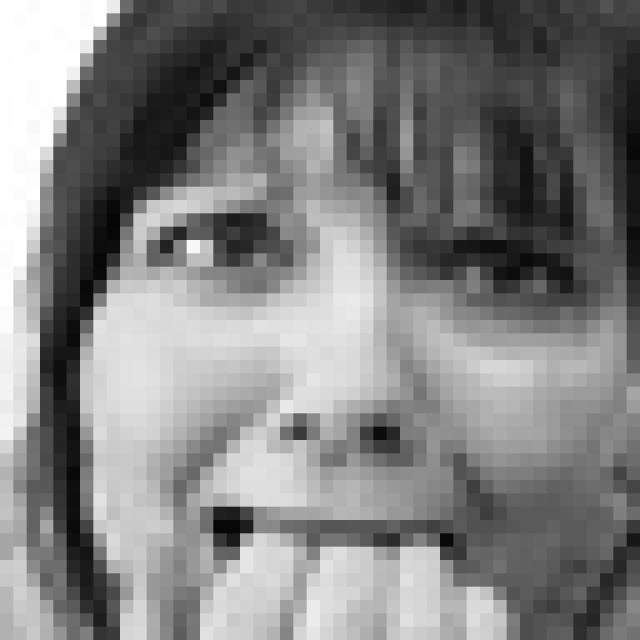fear: (130, 156, 611, 594)
